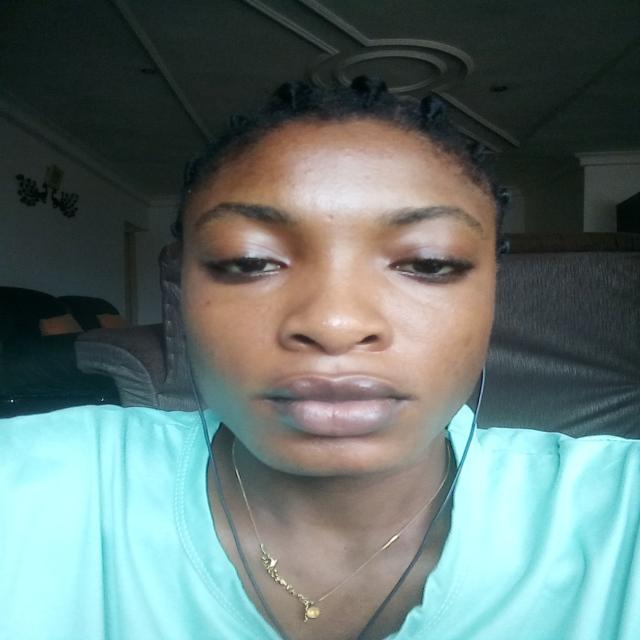Acne: (302, 168, 316, 178), (301, 155, 315, 161), (291, 184, 302, 191), (342, 147, 353, 152)
